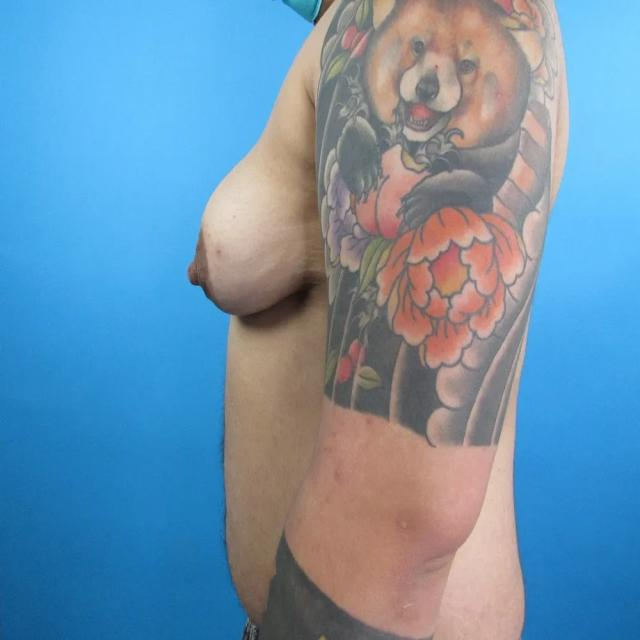Seno ileso: (178, 53, 328, 339)
